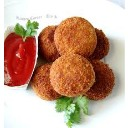cutlet: (51, 53, 95, 95), (56, 13, 98, 56), (87, 59, 116, 100), (35, 63, 57, 101), (39, 23, 59, 60)
